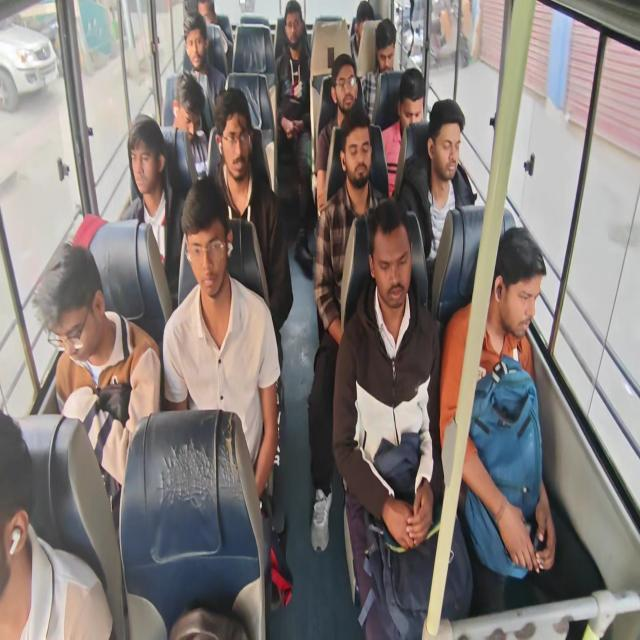person: (37, 268, 102, 364), (185, 208, 232, 304), (375, 233, 411, 324), (503, 247, 537, 341), (125, 126, 161, 197), (227, 106, 259, 177), (168, 86, 205, 145), (396, 72, 428, 136), (342, 126, 372, 180), (330, 61, 360, 114), (437, 115, 460, 174), (278, 8, 306, 52), (351, 10, 374, 58), (192, 0, 216, 36), (380, 27, 395, 72), (187, 30, 204, 68)
